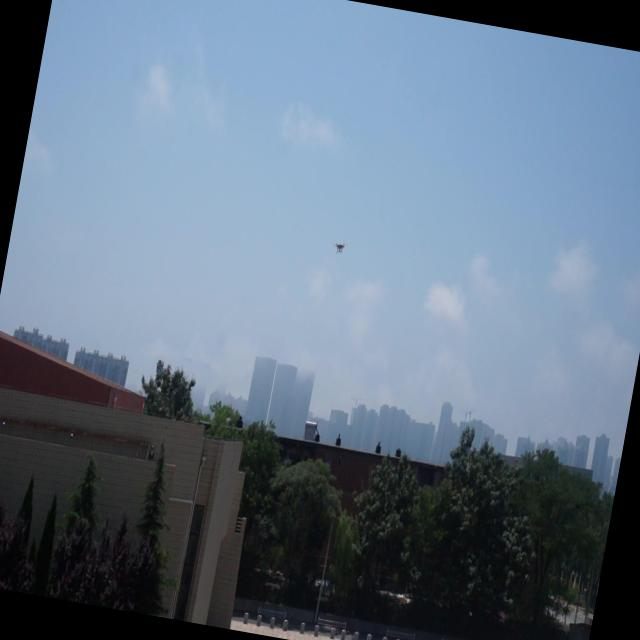drone: (330, 237, 348, 256)
